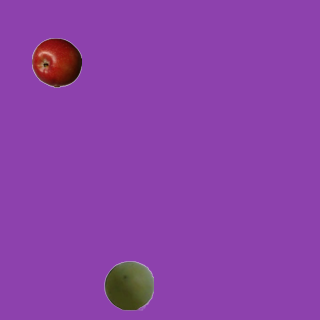Apple Braeburn: (31, 37, 81, 87)
Grape White 4: (103, 260, 153, 310)
